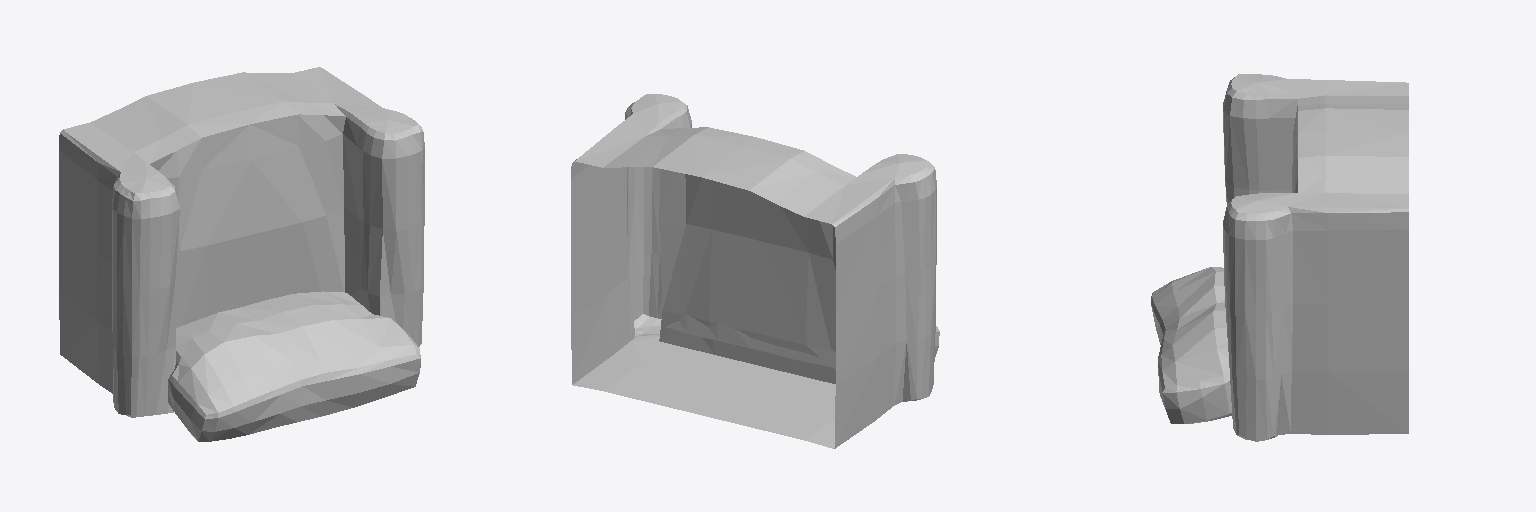
The model's file is sofa02_din_ao_4c2880b8.obj.
3 views of the same model, side by side, from view 1: azimuth 30°, elevation 25°; view 2: azimuth 150°, elevation 25°; view 3: azimuth 270°, elevation 25° (orthographic).
Visible parts, largest first — view 1: sofa01_din_ao_alt; view 2: sofa01_din_ao_alt; view 3: sofa01_din_ao_alt.
Part boxes in pixels (x1,y1,x2,y2): sofa01_din_ao_alt: (59, 67, 424, 441); sofa01_din_ao_alt: (571, 94, 939, 448); sofa01_din_ao_alt: (1151, 74, 1408, 441).
Size of the model in its own units: 59.56 by 47.44 by 44.11.